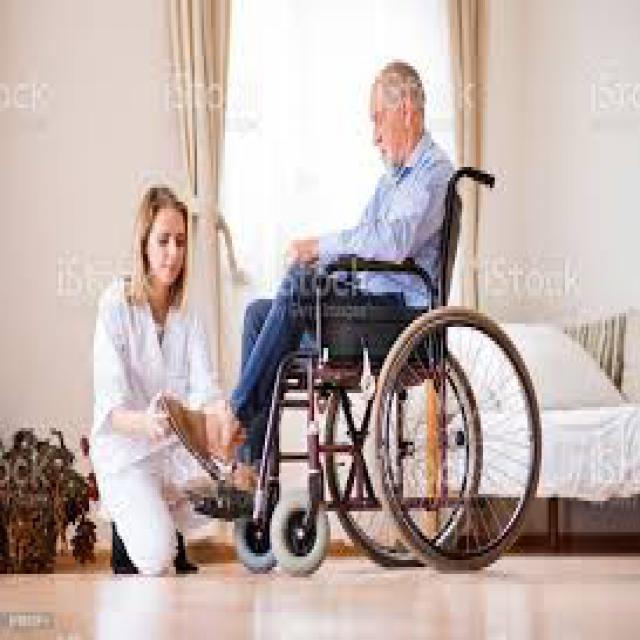wheelchairs: (225, 160, 544, 574)
